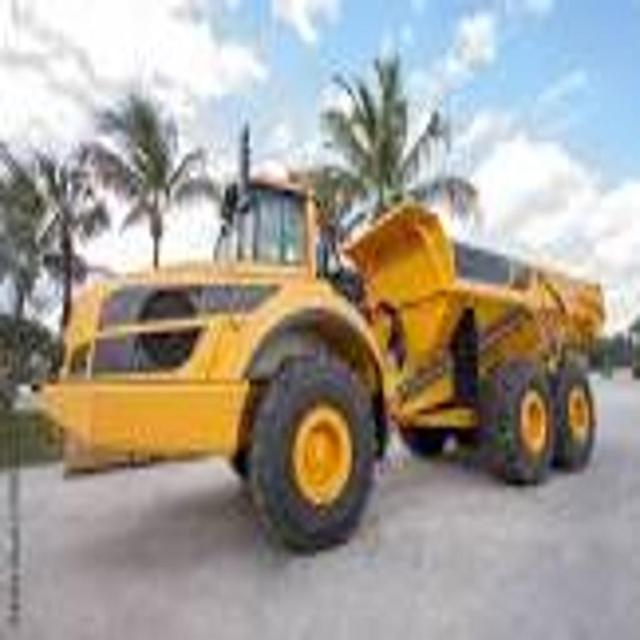dump_truck: (36, 139, 605, 532)
